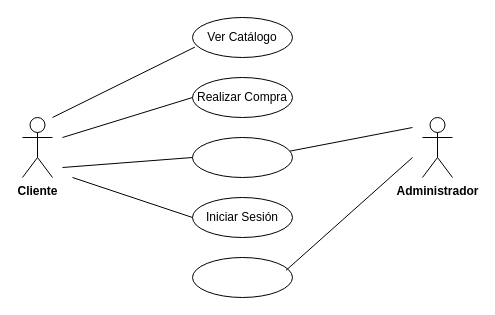
Some shapes in this 495 by 315 pixel diagram are drawn without their labels. Here are the shapes that lost their labels. From the top down, the box of each, then its label:
(192, 136, 292, 178): Solicitar Devolución
(192, 256, 292, 298): Gestionar Inventario
